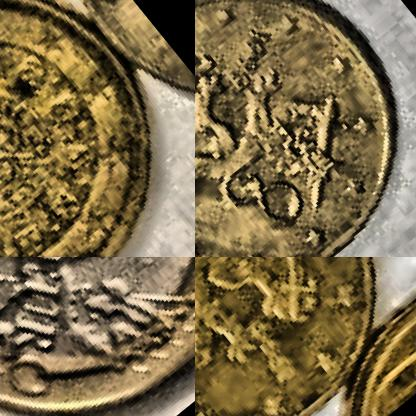coin: (195, 0, 415, 256), (0, 0, 194, 256), (195, 257, 415, 415), (0, 257, 194, 415)
